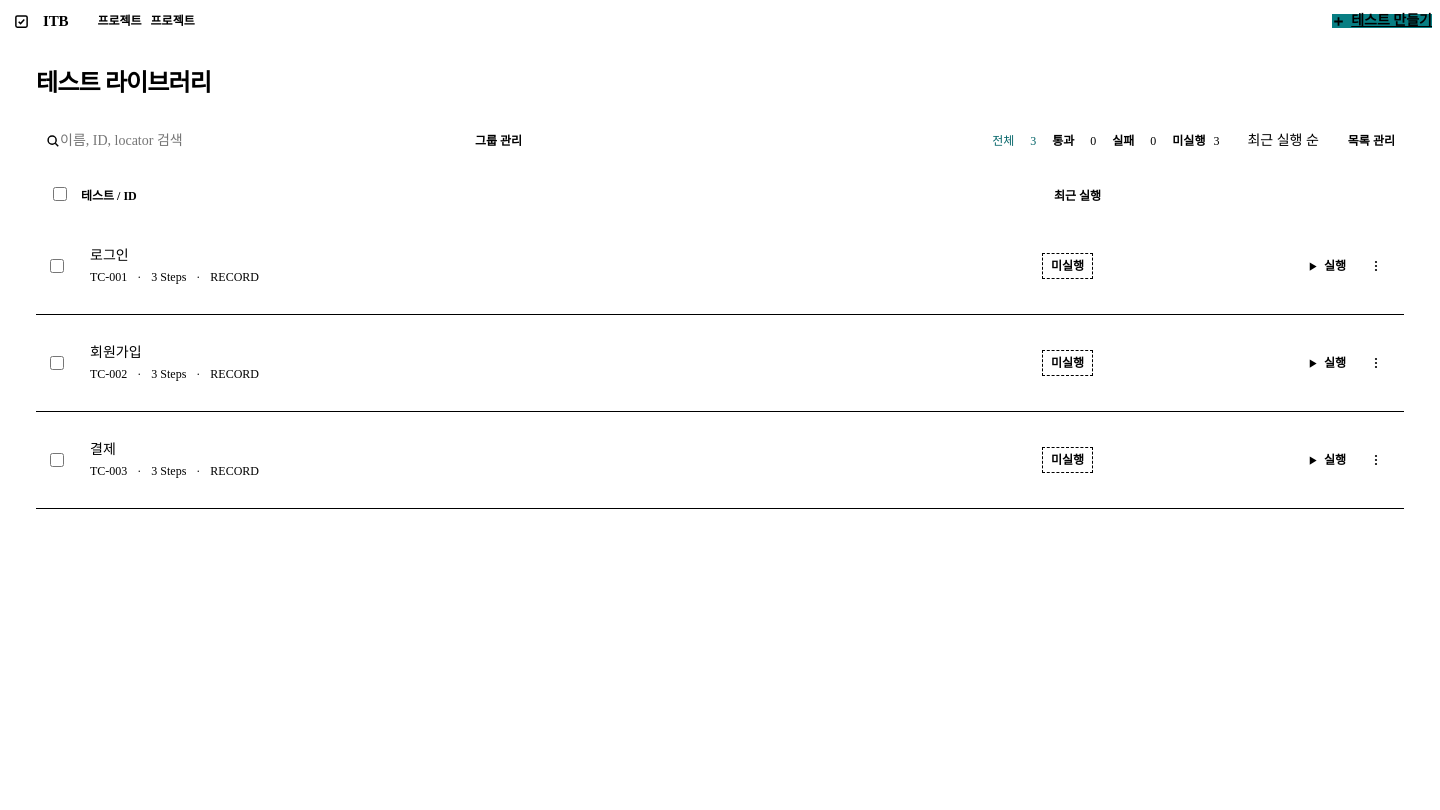
확인과 완료 › 확인 전에는 삭제 요청이 나가지 않는다 (FR-431)
Expected: the text "로그인" is shown, [90,248,129,263]
Click the checkbox named "로그인 선택".
click(57, 266)  # box [50,259,64,273]
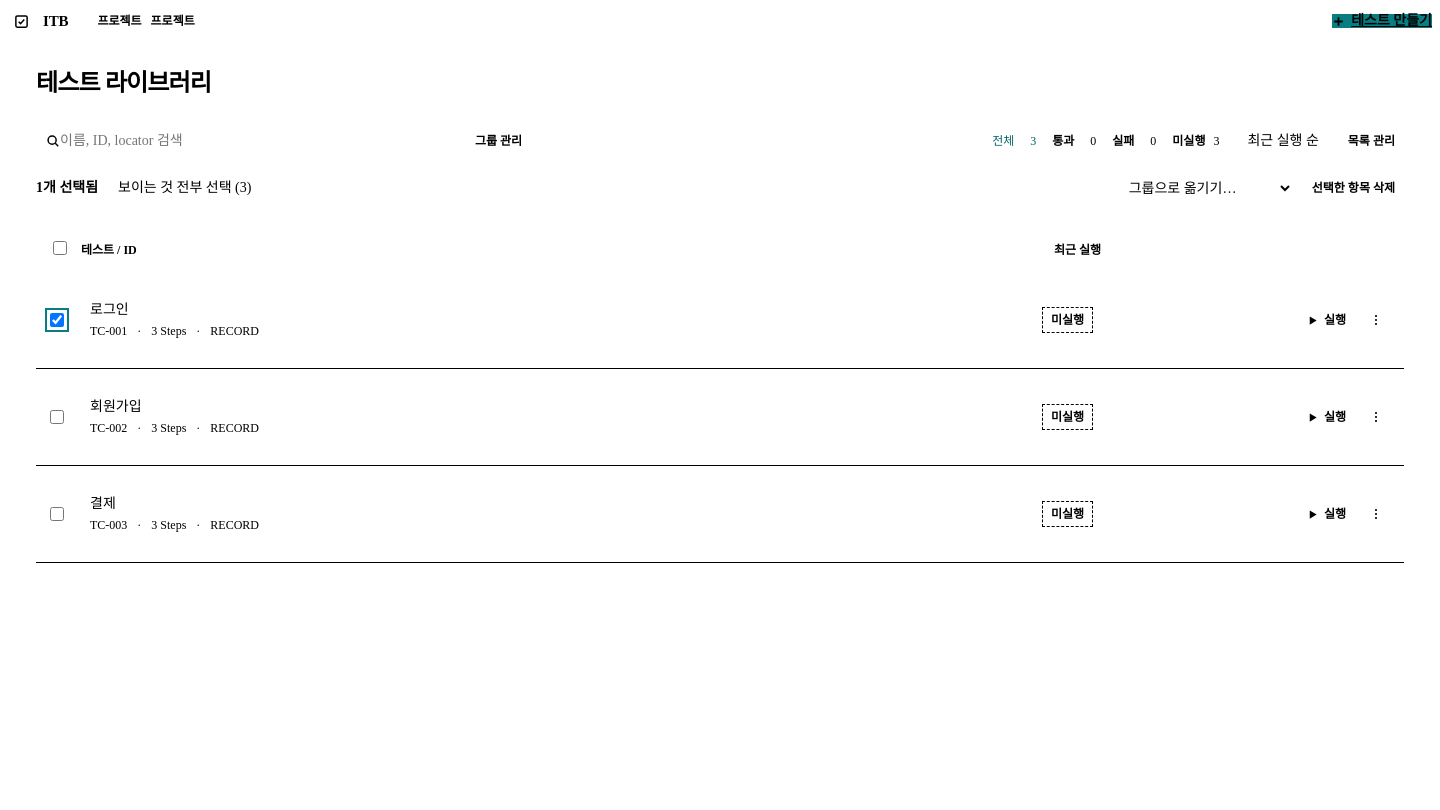
Expected: the element showing "1개 선택됨 보이는 것 전부 선택 (3) 선택한 항목 삭제" is shown, [36,174,1404,202]
Click the button "선택한 항목 삭제".
click(1353, 188)  # box [1303,181,1404,195]
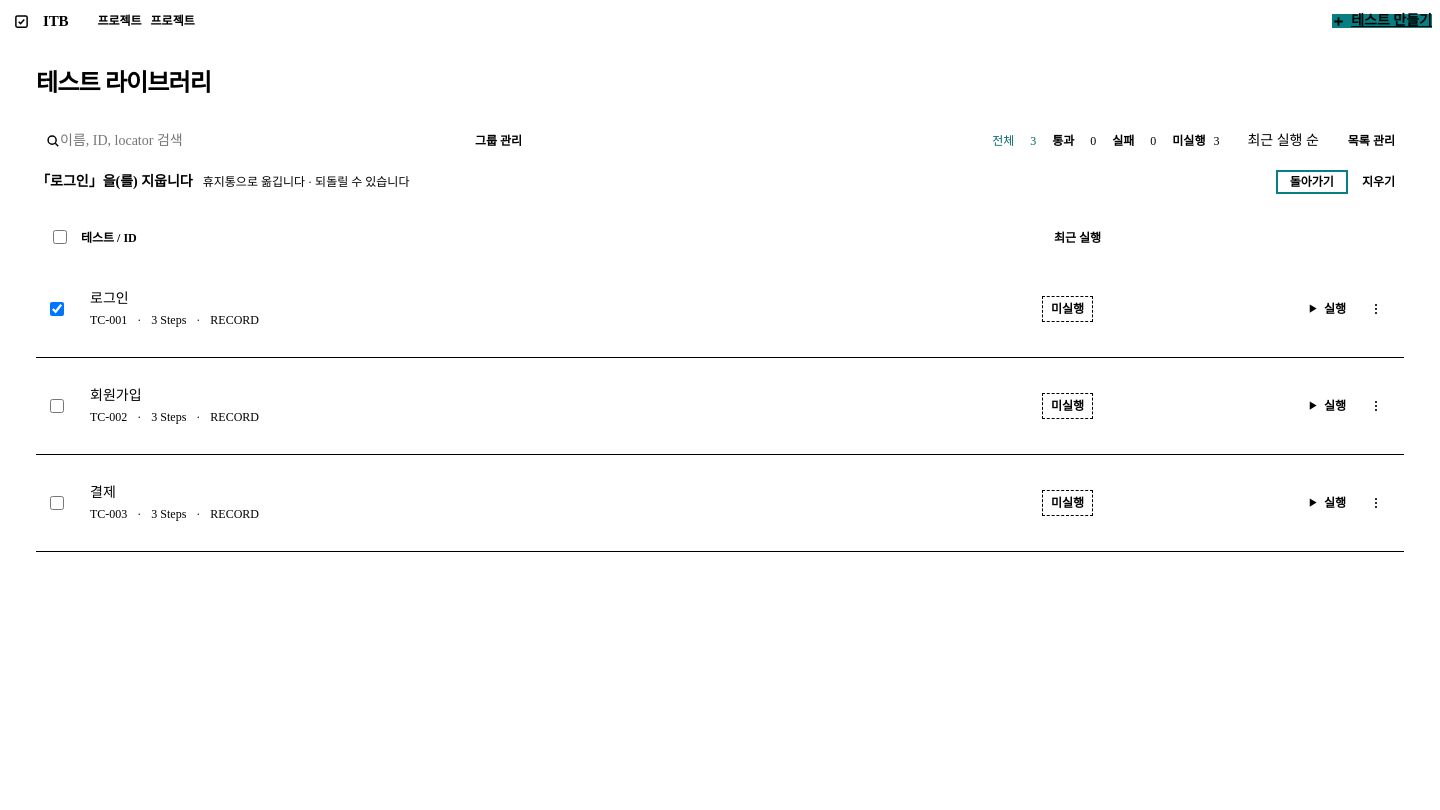
Expected: the message "「로그인」을(를) 지웁니다 휴지통으로 옮깁니다 · 되돌릴 수 있습니다 돌아가기 지우기" is shown, [36,174,1404,191]
